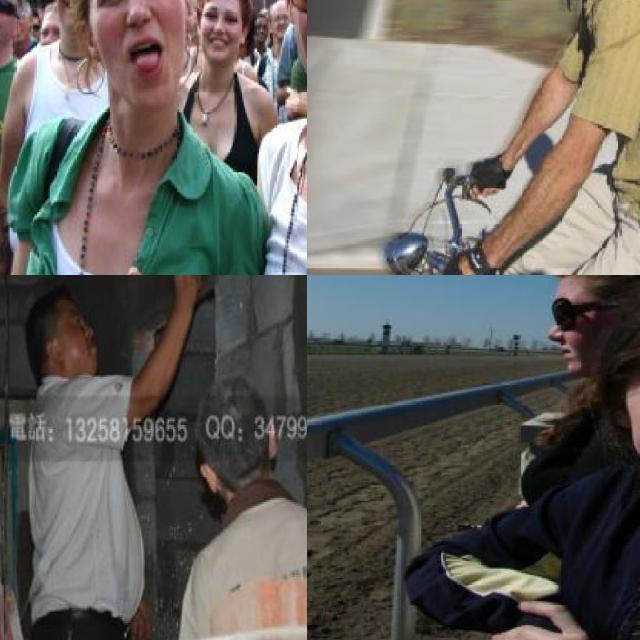face_nomask: (87, 0, 187, 75), (61, 304, 105, 366), (204, 5, 242, 48), (0, 0, 16, 38)
glasses: (546, 282, 629, 329), (0, 0, 21, 17)
hand_glove: (458, 148, 516, 198), (444, 234, 499, 275)
hand_noglove: (460, 590, 622, 640), (167, 275, 207, 309)
head_nohelmet: (192, 379, 265, 448), (20, 286, 79, 338), (540, 275, 640, 291)
person: (0, 0, 254, 275), (7, 277, 177, 640), (471, 0, 640, 275), (179, 370, 307, 640), (240, 0, 307, 275), (181, 0, 279, 181), (0, 0, 34, 275)
